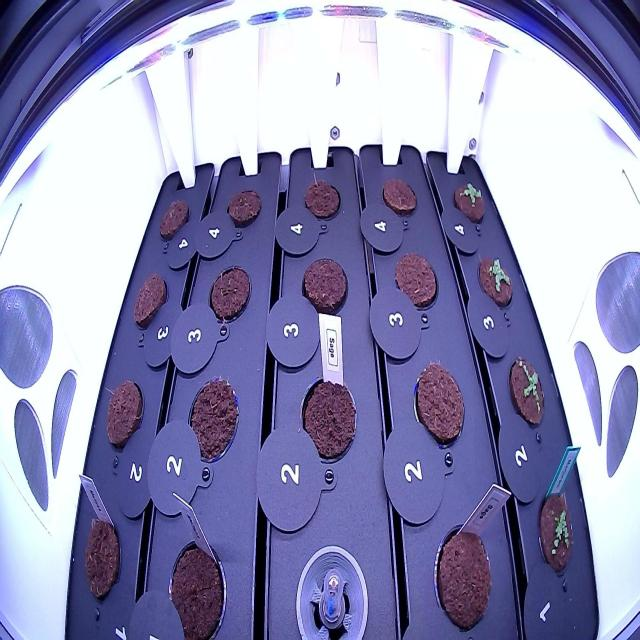germination: (536, 482, 576, 578), (507, 345, 549, 436), (474, 249, 518, 313), (449, 175, 491, 227)
pod: (428, 513, 495, 636), (161, 532, 233, 638), (293, 360, 360, 471), (181, 372, 243, 469), (410, 353, 468, 453), (80, 509, 126, 610), (101, 372, 149, 454), (299, 250, 350, 324), (390, 246, 441, 315), (205, 259, 254, 328), (130, 263, 170, 336), (301, 167, 345, 230), (152, 185, 195, 248), (378, 172, 422, 222), (224, 184, 264, 233)
